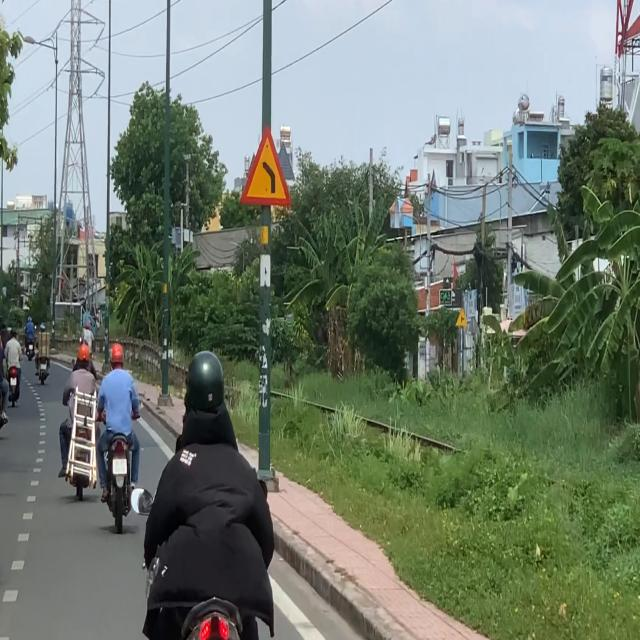Nguy hiem: (239, 125, 293, 206)
